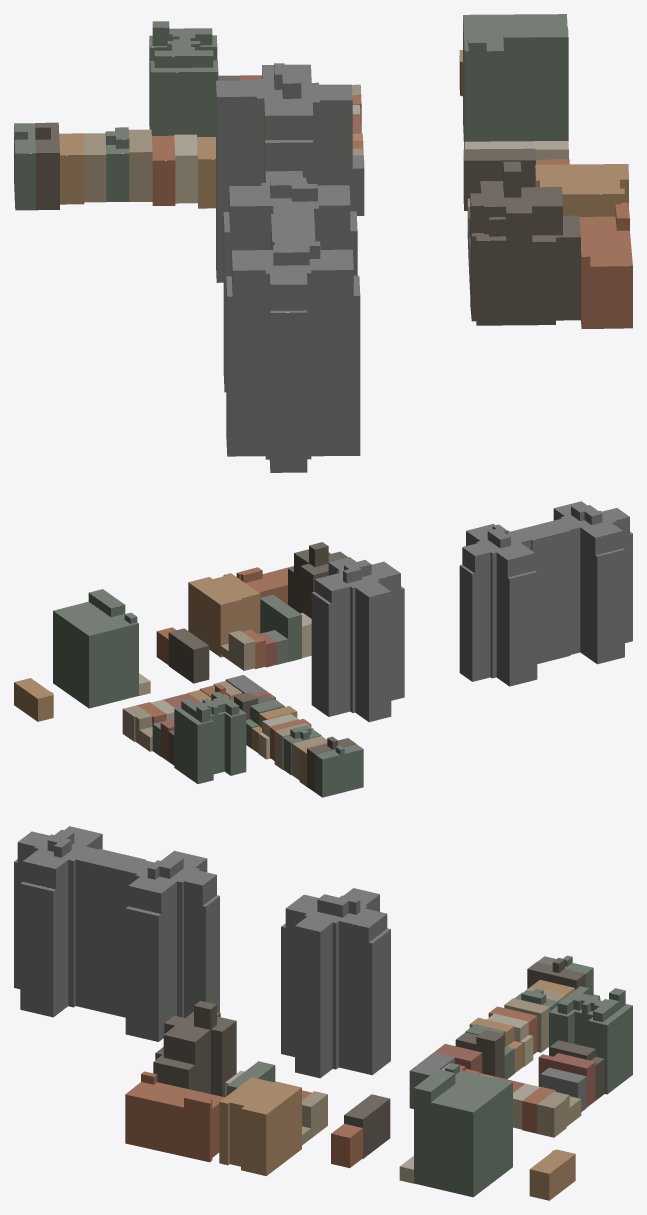
Rendered from tile-0_-11.glb.
The picture shows the model from 3 angles, top to bottom: view 1: azimuth 30°, elevation 25°; view 2: azimuth 150°, elevation 25°; view 3: azimuth 270°, elevation 25°; orthographic projection. The views are drawn at different scales.
Visible parts, largest first — view 1: wall, roof; view 2: wall, roof; view 3: wall, roof.
Part boxes in pixels (x1,y1,x2,y2): wall: (14, 18, 632, 472); roof: (14, 14, 632, 312); wall: (14, 506, 632, 797); roof: (14, 501, 632, 759); wall: (14, 833, 632, 1200); roof: (14, 826, 632, 1173).
Size of the model in its own units: 204 by 66.9 by 230.
